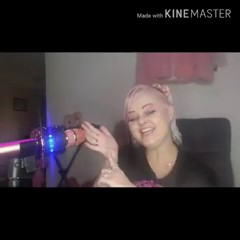T: (81, 117, 124, 193)
